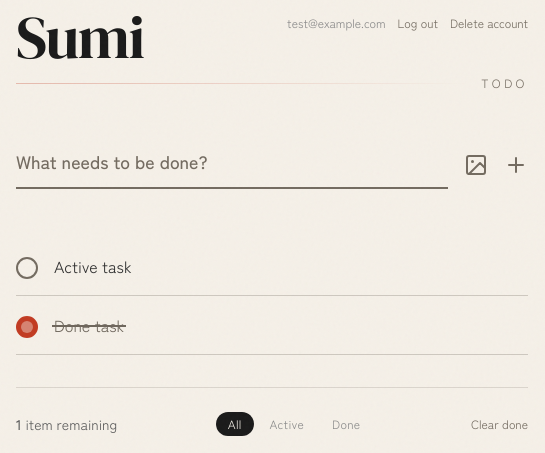
Test: Home › フィルター › Active フィルターで未完了のTodoのみ表示される
expect the text "Active task" is shown: met, box [54, 254, 132, 278]
expect the text "Done task" is shown: met, box [54, 313, 124, 337]
Click the button "Active" at x=287, y=424, box [258, 412, 316, 436]
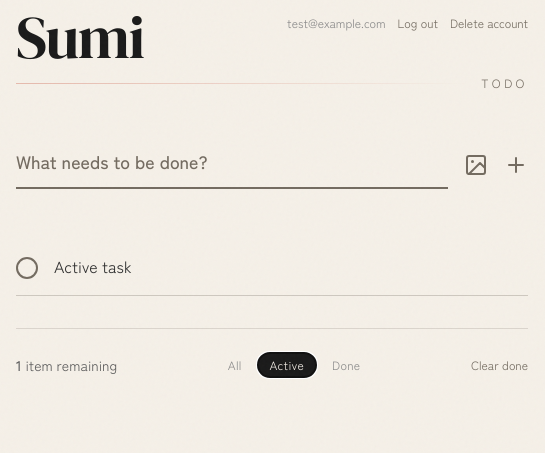
expect the text "Active task" is shown: met, box [54, 254, 132, 278]
expect the text "Done task" is gone: met
